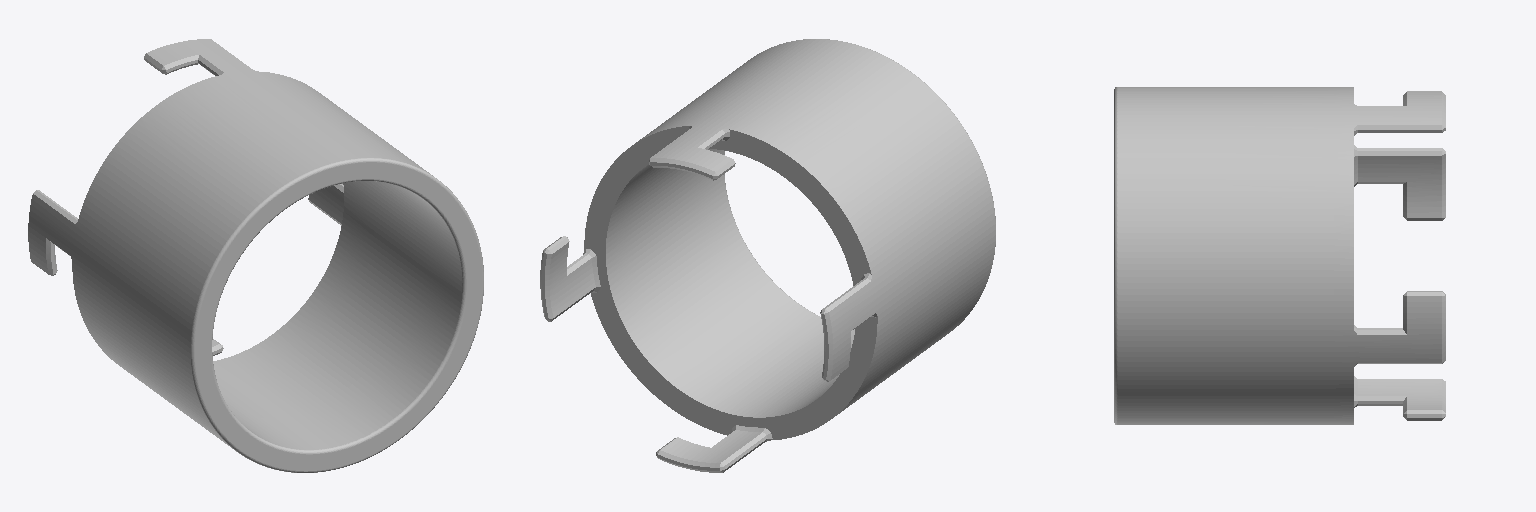
The model's file is ACE 20 B_douille.obj.
The picture shows the model from 3 angles: view 1: azimuth 30°, elevation 25°; view 2: azimuth 150°, elevation 25°; view 3: azimuth 270°, elevation 25°; orthographic projection.
Parts seen in each view (by area): view 1: Solide1:2; view 2: Solide1:2; view 3: Solide1:2.
Boxes of the visible parts, x1,y1,x2,y2 form: Solide1:2: [28, 39, 483, 472]; Solide1:2: [540, 39, 995, 472]; Solide1:2: [1114, 87, 1445, 424].
Size of the model in its own units: 24 by 24 by 23.5.